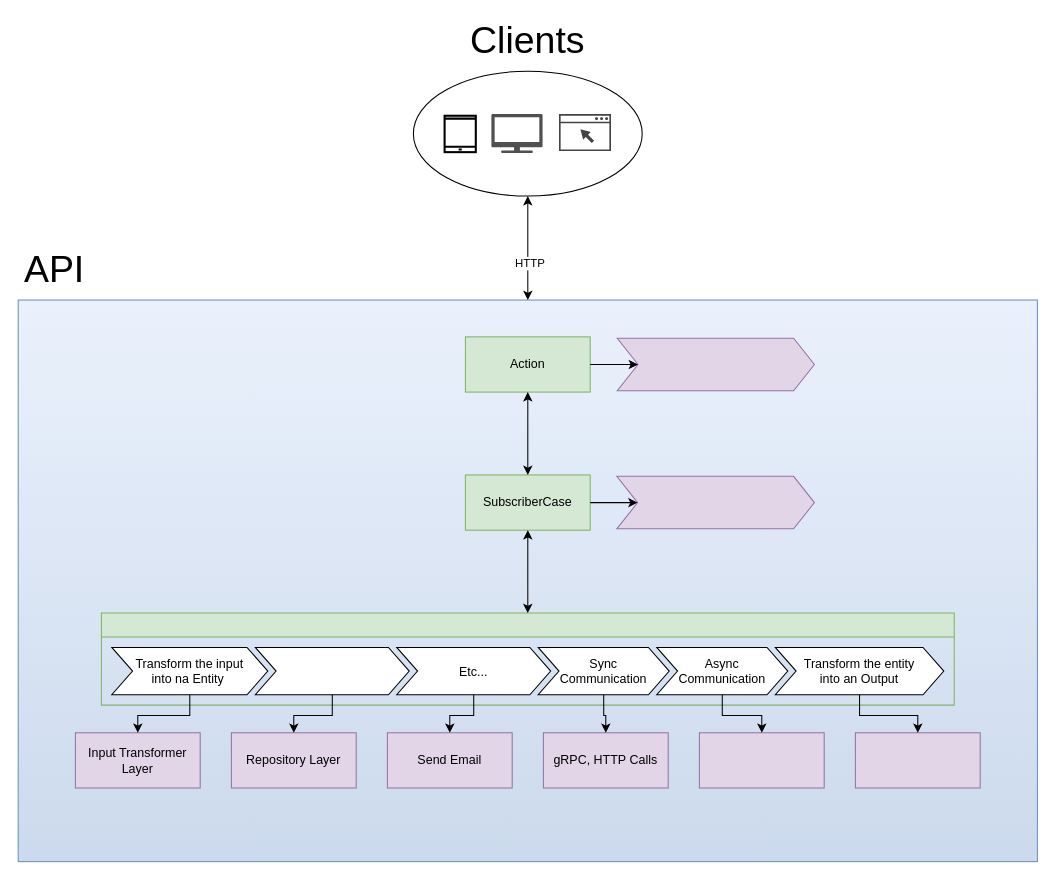
Some shapes in this 1056 by 880 pixel diagram are drawn without their labels. The shapes that lost their labels are listed below. From the top down, each one's box as (x1, y1, x2, y2) in pixels, then its label:
(616, 337, 814, 391): Create an Input as param to UseCase
(616, 475, 814, 529): Create an Output as return to Action
(254, 646, 409, 695): Persist the Entity
(698, 732, 824, 788): MQTT Server
(854, 732, 980, 788): Output Transformer Layer
